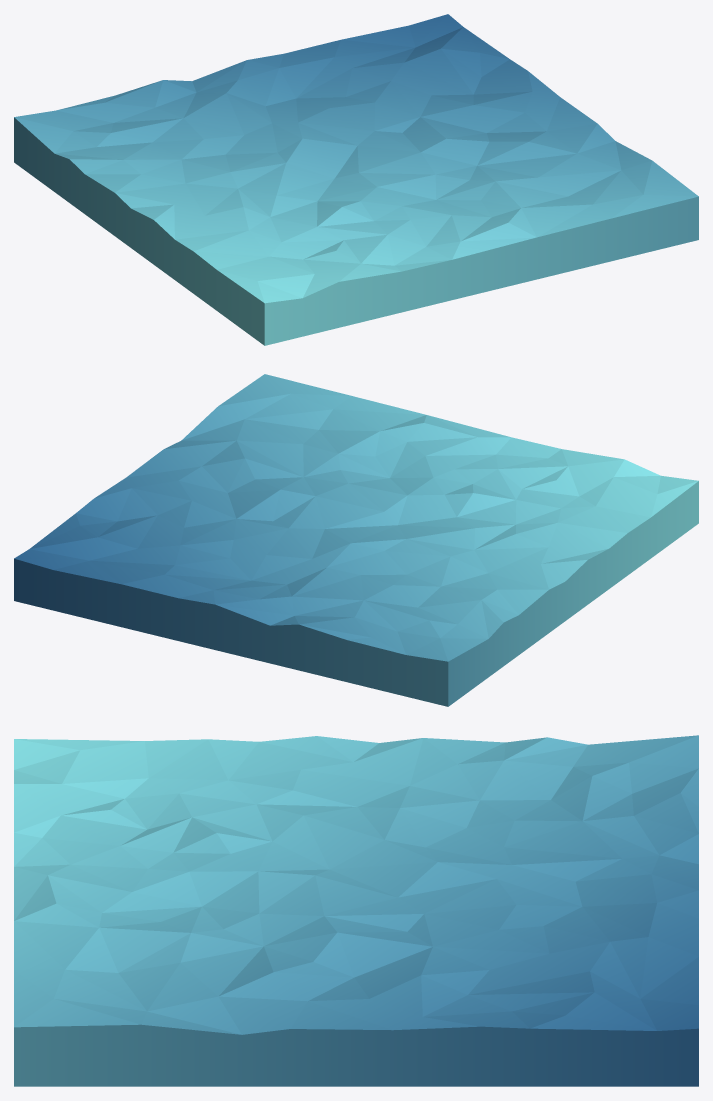
The model's file is water-location-mountain-arch.glb.
The picture shows the model from 3 angles, top to bottom: view 1: azimuth 30°, elevation 25°; view 2: azimuth 150°, elevation 25°; view 3: azimuth 270°, elevation 25°; orthographic projection. The views are drawn at different scales.
Parts seen in each view (by area): view 1: water location mountain arch; view 2: water location mountain arch; view 3: water location mountain arch.
Part boxes in pixels (x1,y1,x2,y2): water location mountain arch: (14, 14, 698, 345); water location mountain arch: (14, 374, 698, 706); water location mountain arch: (14, 735, 698, 1086).
Size of the model in its own units: 45 by 4.82 by 45.
Materials: 1 (1 with a texture image).
